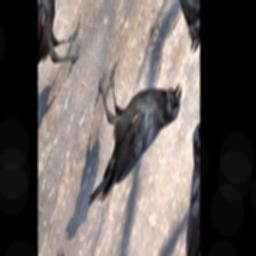Crow: (64, 19, 187, 253)
